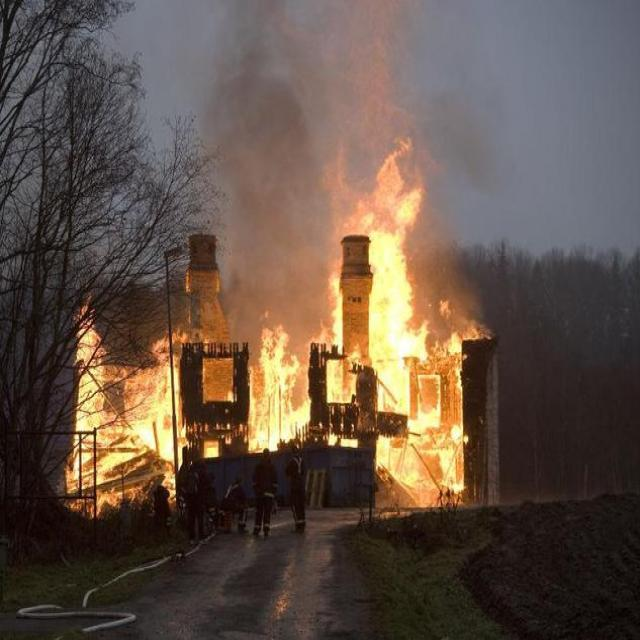Fire: (71, 308, 181, 506), (370, 164, 428, 408), (249, 328, 312, 451), (378, 412, 462, 489), (326, 270, 342, 346)
Smoke: (221, 1, 322, 324), (326, 0, 432, 166)
